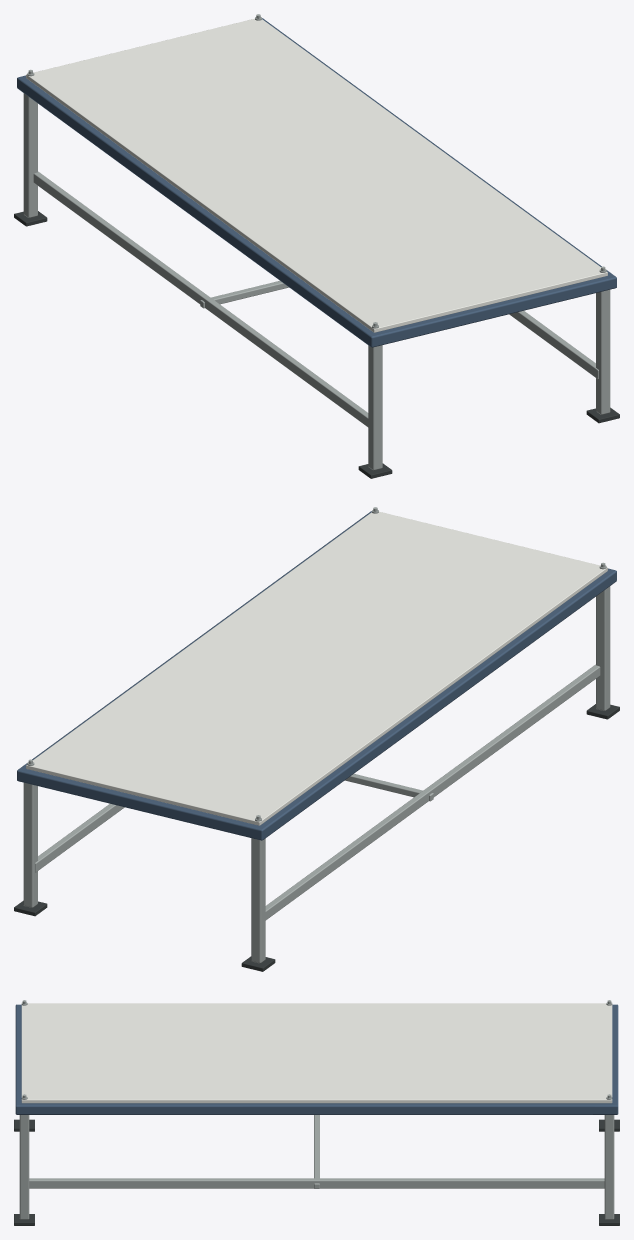
File: spacecraft-parachute-packing-hall-spacecraft-parachute-5503b9d4__32076.glb
3 renders of one model, top to bottom at view 1: azimuth 30°, elevation 25°; view 2: azimuth 150°, elevation 25°; view 3: azimuth 270°, elevation 25°, orthographic. The views are drawn at different scales.
Visible parts, largest first — view 1: spacecraft-parachute-packing-hall-long-canopy-packing-table_ (×4); view 2: spacecraft-parachute-packing-hall-long-canopy-packing-table_ (×4); view 3: spacecraft-parachute-packing-hall-long-canopy-packing-table_ (×4).
Part boxes in pixels (left/top/right/bottom): spacecraft-parachute-packing-hall-long-canopy-packing-table_ (×4): left=14, top=14, right=619, bottom=478; spacecraft-parachute-packing-hall-long-canopy-packing-table_ (×4): left=14, top=507, right=619, bottom=971; spacecraft-parachute-packing-hall-long-canopy-packing-table_ (×4): left=14, top=1000, right=619, bottom=1225.
Bounding box in the file's own units: 1.62 × 0.9251 × 4.02.
